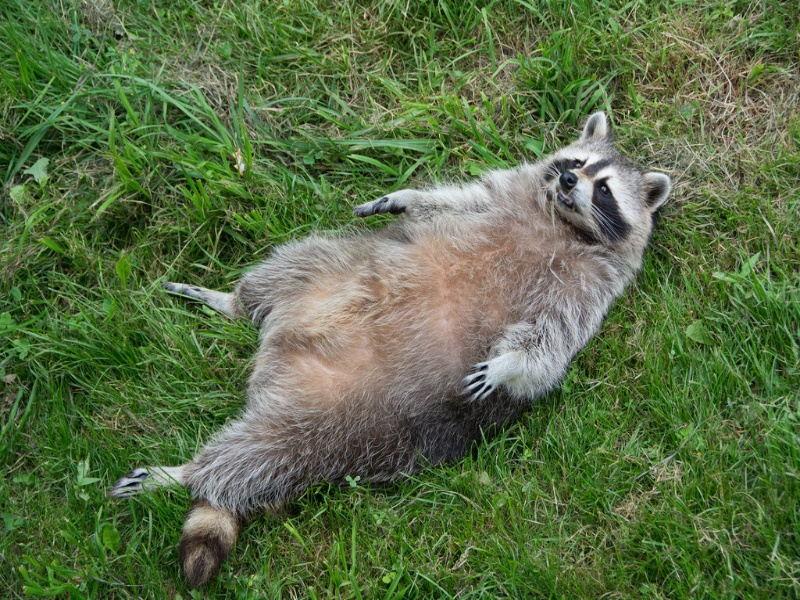raccoon: (110, 105, 677, 578)
